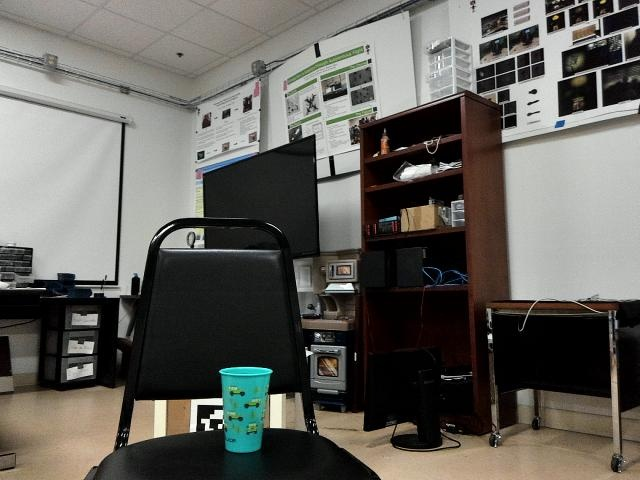coffee_cup: (218, 364, 277, 454)
